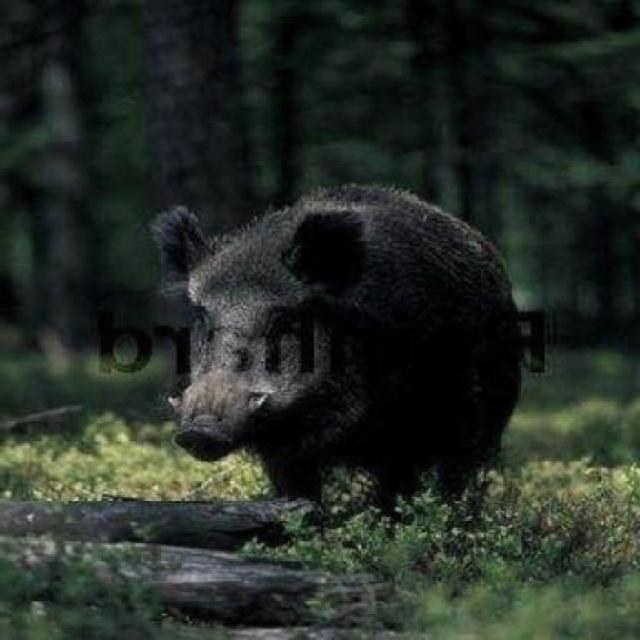Boar: (145, 162, 566, 530)
